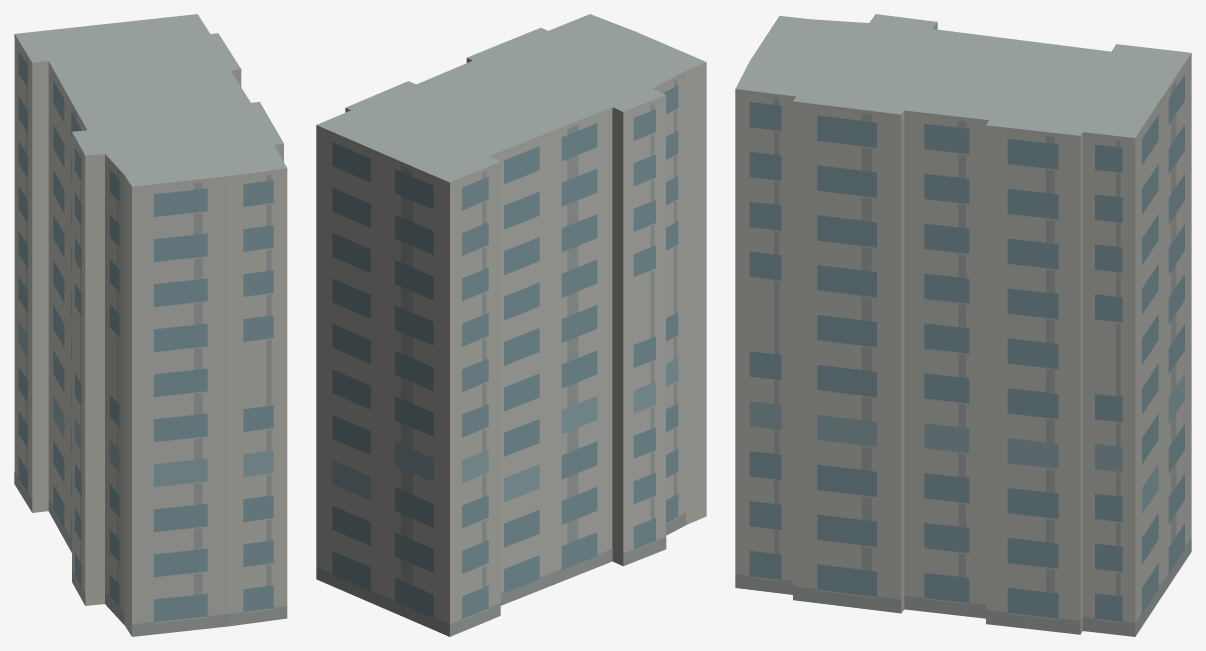
The model's file is residential-035f0e7a-5269-48ac-8215-012188323a02.glb.
3 renders of one model, left to right at view 1: azimuth 30°, elevation 25°; view 2: azimuth 150°, elevation 25°; view 3: azimuth 270°, elevation 25°, orthographic. The views are drawn at different scales.
Parts seen in each view (by area): view 1: residential-035f0e7a-5269-48ac-8215-012188323a02.tmp; view 2: residential-035f0e7a-5269-48ac-8215-012188323a02.tmp; view 3: residential-035f0e7a-5269-48ac-8215-012188323a02.tmp.
Boxes of the visible parts, x1=… form: residential-035f0e7a-5269-48ac-8215-012188323a02.tmp: x1=14, y1=14, x2=287, y2=636; residential-035f0e7a-5269-48ac-8215-012188323a02.tmp: x1=316, y1=14, x2=706, y2=636; residential-035f0e7a-5269-48ac-8215-012188323a02.tmp: x1=735, y1=14, x2=1191, y2=636.
Bounding box in the file's own units: 16.01 × 30 × 24.88.
